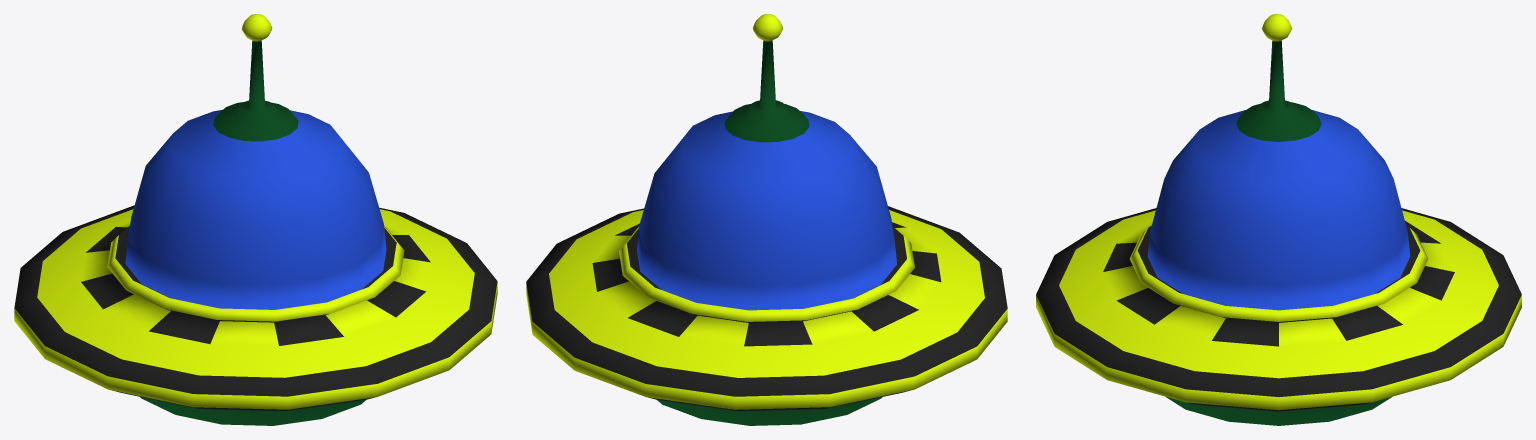
File: UFPA.FBX
3 views of the same model, side by side, from view 1: azimuth 30°, elevation 25°; view 2: azimuth 150°, elevation 25°; view 3: azimuth 270°, elevation 25° (orthographic).
Parts seen in each view (by area): view 1: Cylinder001; view 2: Cylinder001; view 3: Cylinder001.
Part boxes in pixels (x1,y1,x2,y2): Cylinder001: [14, 14, 497, 425]; Cylinder001: [526, 14, 1007, 425]; Cylinder001: [1036, 14, 1521, 425].
Bounding box in the file's own units: 70.06 × 59.2 × 70.06.
